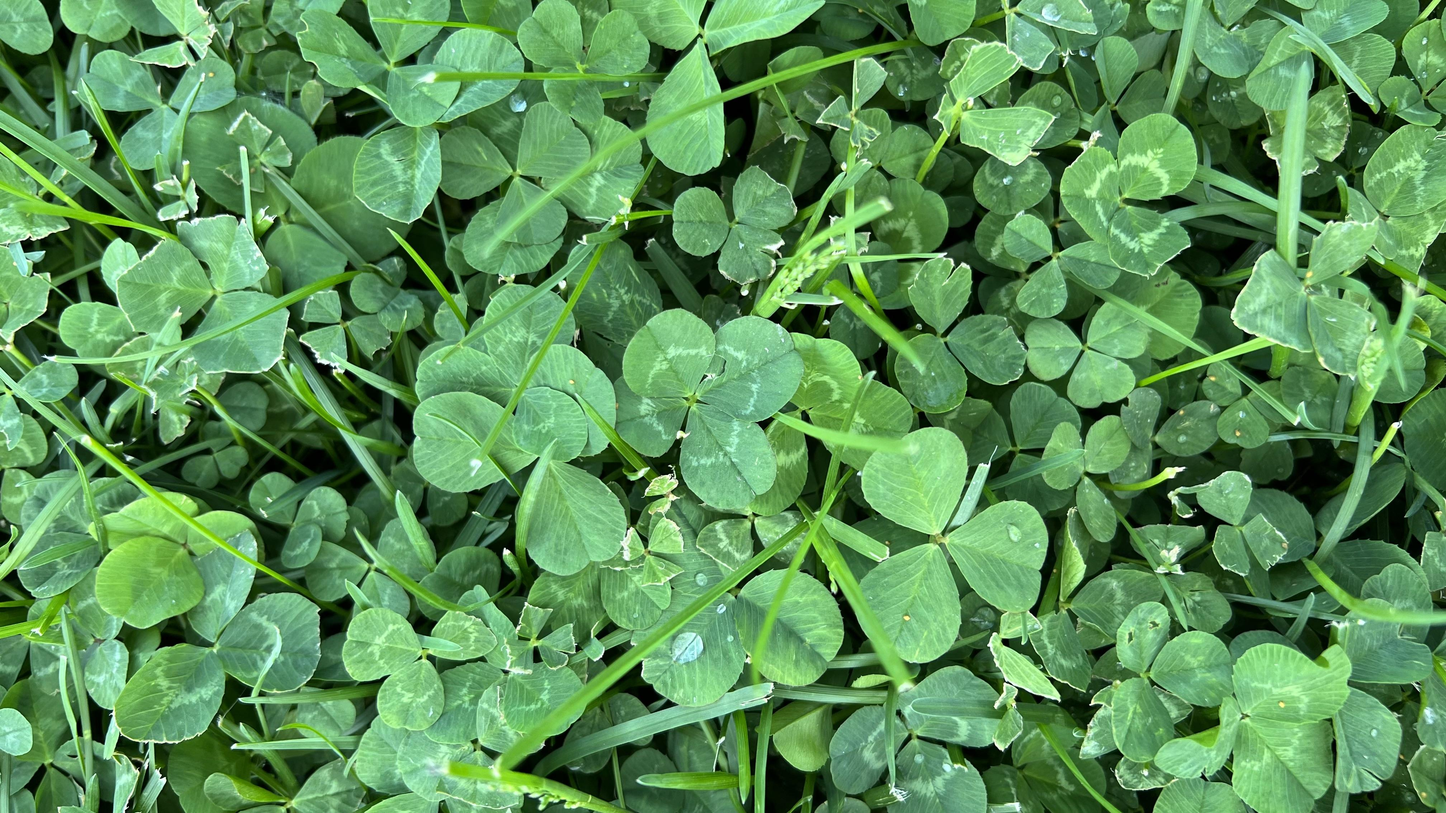4-Leaf-Clovers: (565, 362, 886, 471)
